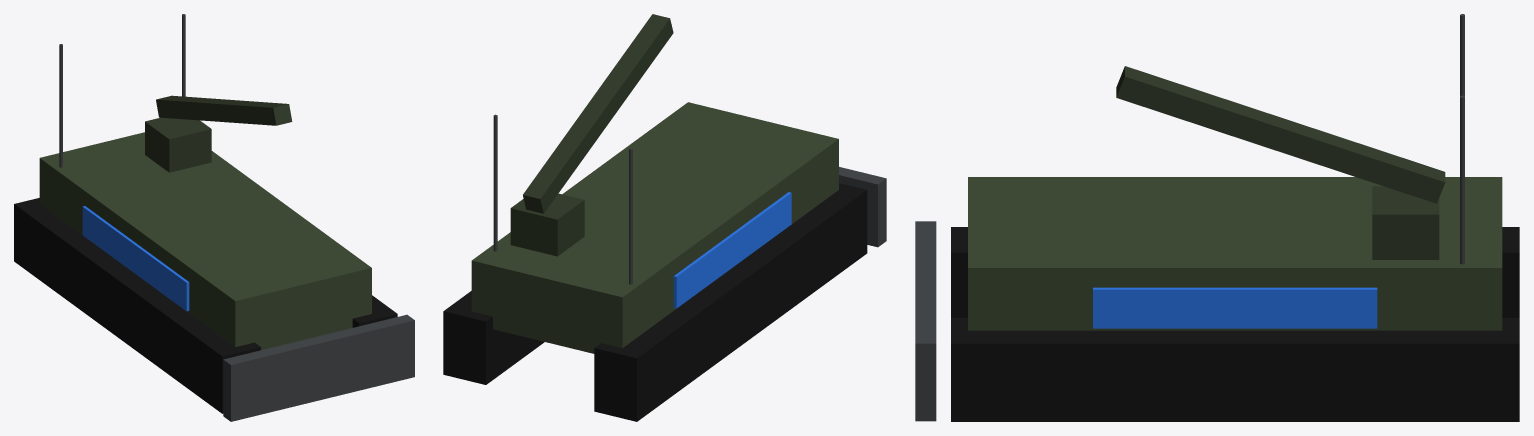
Rendered from ru_engineer.glb.
3 views of the same model, side by side, from view 1: azimuth 30°, elevation 25°; view 2: azimuth 150°, elevation 25°; view 3: azimuth 270°, elevation 25° (orthographic). The views are drawn at different scales.
Visible parts, largest first — view 1: hull, track_l, dozer_blade, team_panel_l, crane_base, crane_boom, track_r, whip_0; view 2: hull, track_l, crane_boom, track_r, team_panel_l, crane_base, dozer_blade, whip_1, whip_0; view 3: hull, track_r, team_panel_r, crane_boom, crane_base, dozer_blade, track_l, whip_1.
Boxes of the visible parts, x1,y1,x2,y2 form: hull: (39,132,371,350); track_l: (14,198,260,413); dozer_blade: (223,314,414,421); team_panel_l: (82,206,189,311); crane_base: (145,117,211,172); crane_boom: (156,95,292,125); track_r: (352,295,397,327); whip_0: (59,44,62,167); hull: (471,102,838,353); track_l: (594,183,867,421); crane_boom: (523,14,673,213); track_r: (443,291,544,384); team_panel_l: (673,192,791,308); crane_base: (510,193,584,256); dozer_blade: (839,167,886,247); whip_1: (493,114,497,251); whip_0: (629,148,632,284); hull: (968,177,1502,330); track_r: (951,318,1519,421); team_panel_r: (1093,287,1377,328); crane_boom: (1116,66,1445,203); crane_base: (1372,186,1439,259); dozer_blade: (915,221,936,421); track_l: (951,227,1519,317); whip_1: (1460,95,1464,264).
Bounding box in the file's own units: 3.46 × 4.17 × 7.23.
